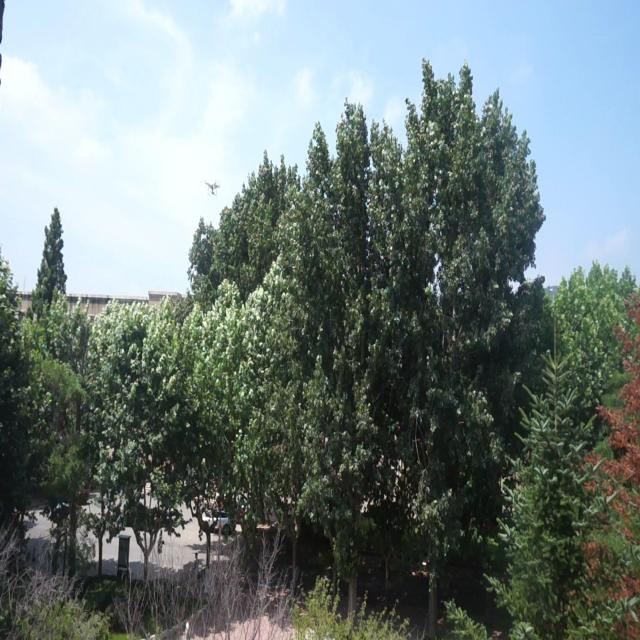drone: (204, 175, 223, 201)
